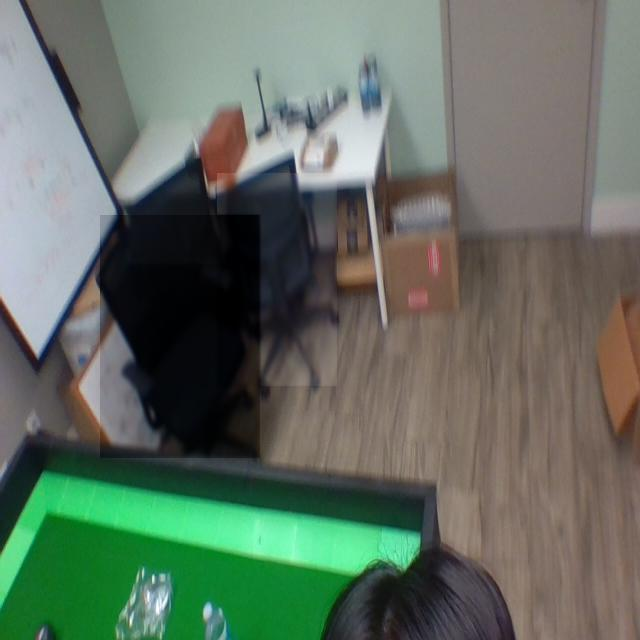chair: (100, 215, 260, 459), (218, 173, 338, 387), (128, 158, 228, 264)
